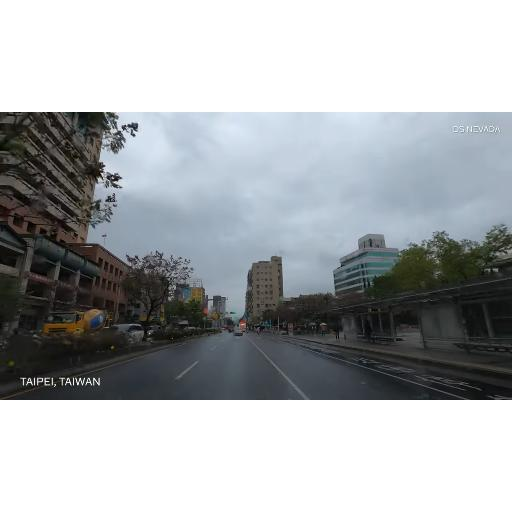Car: (40, 305, 116, 353), (98, 320, 146, 350), (144, 322, 162, 338), (235, 320, 249, 332), (233, 326, 243, 338)
